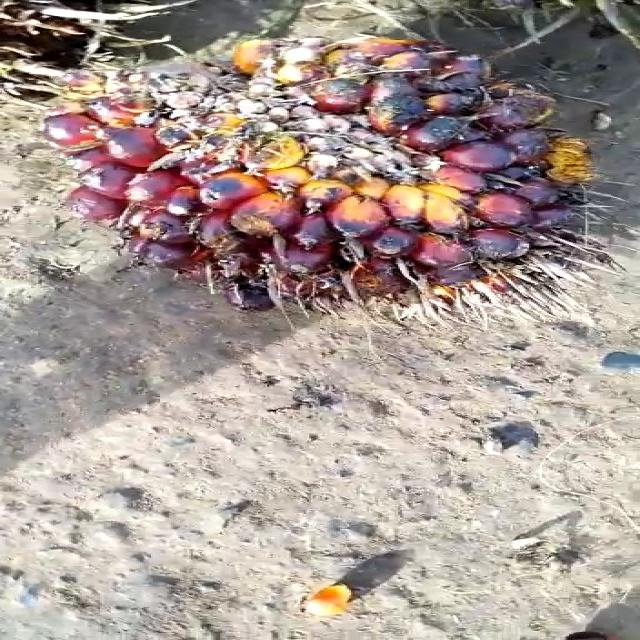palm oil: (45, 26, 609, 302)
